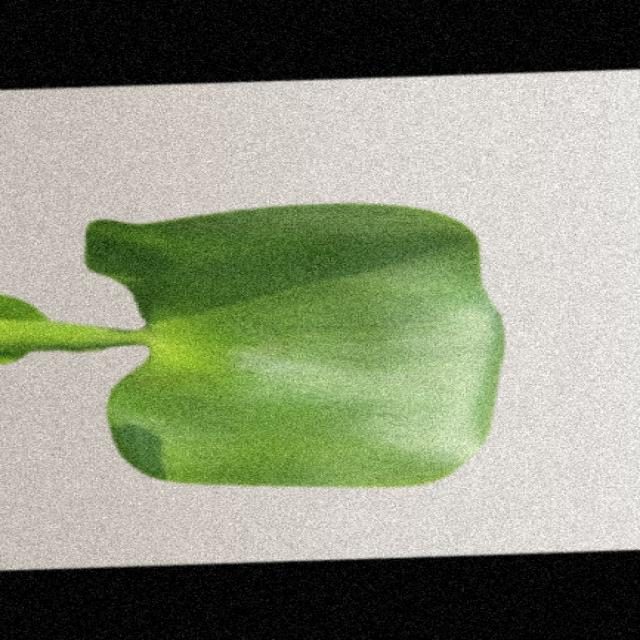daun berpenyakit kuning: (0, 204, 503, 486)
